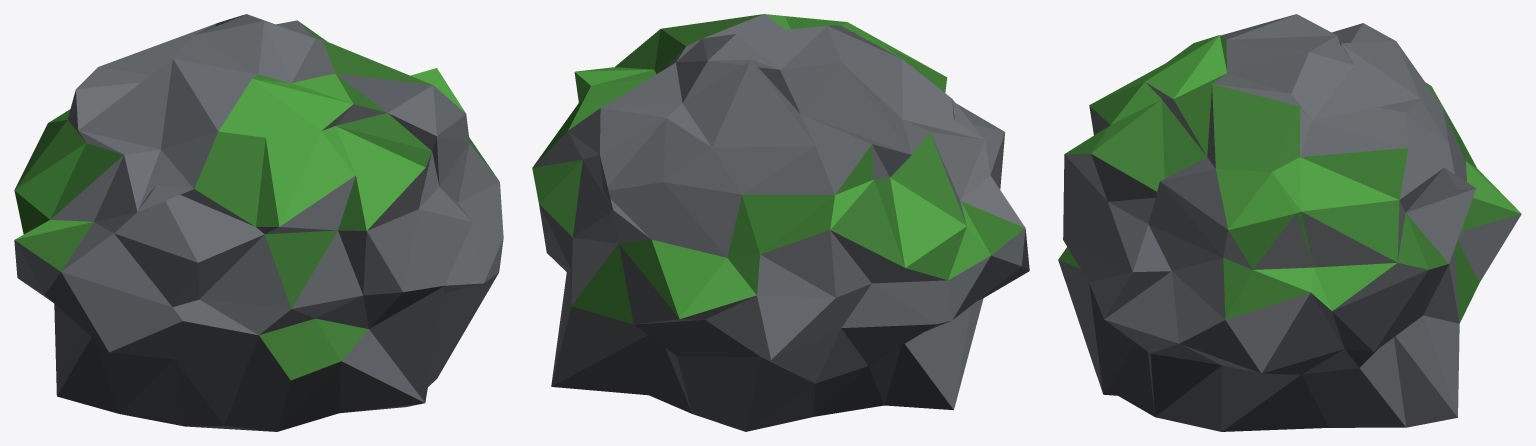
File: mossy_rock_a.glb
3 views of the same model, side by side, from view 1: azimuth 30°, elevation 25°; view 2: azimuth 150°, elevation 25°; view 3: azimuth 270°, elevation 25° (orthographic). The views are drawn at different scales.
Visible parts, largest first — view 1: mossy_rock_a; view 2: mossy_rock_a; view 3: mossy_rock_a.
Part boxes in pixels (x1=…): mossy_rock_a: x1=14, y1=14, x2=503, y2=431; mossy_rock_a: x1=532, y1=14, x2=1029, y2=431; mossy_rock_a: x1=1058, y1=14, x2=1521, y2=431.
Bounding box in the file's own units: 1.16 × 0.8291 × 1.05.
